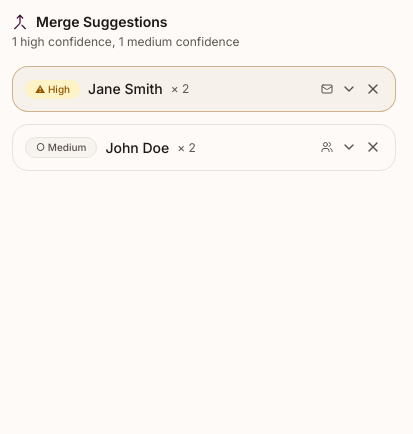
it: GuestMergePanel › expands cluster on chevron click and shows member list
The width and height of the screenshot is (413, 434).
Expected: the text "Jane Smith" is shown, [88,79,163,99]
Click the button named "Expand cluster details" in the row of "Jane Smith".
click(349, 89)  # box [339,79,359,99]
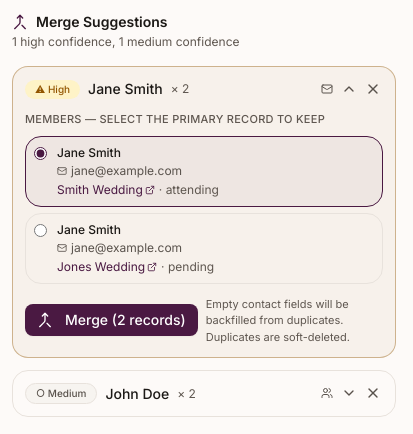
Now the link "Smith Wedding" is shown, box [57,182,155,198]
Now the link "Jones Wedding" is shown, box [57,258,157,274]
